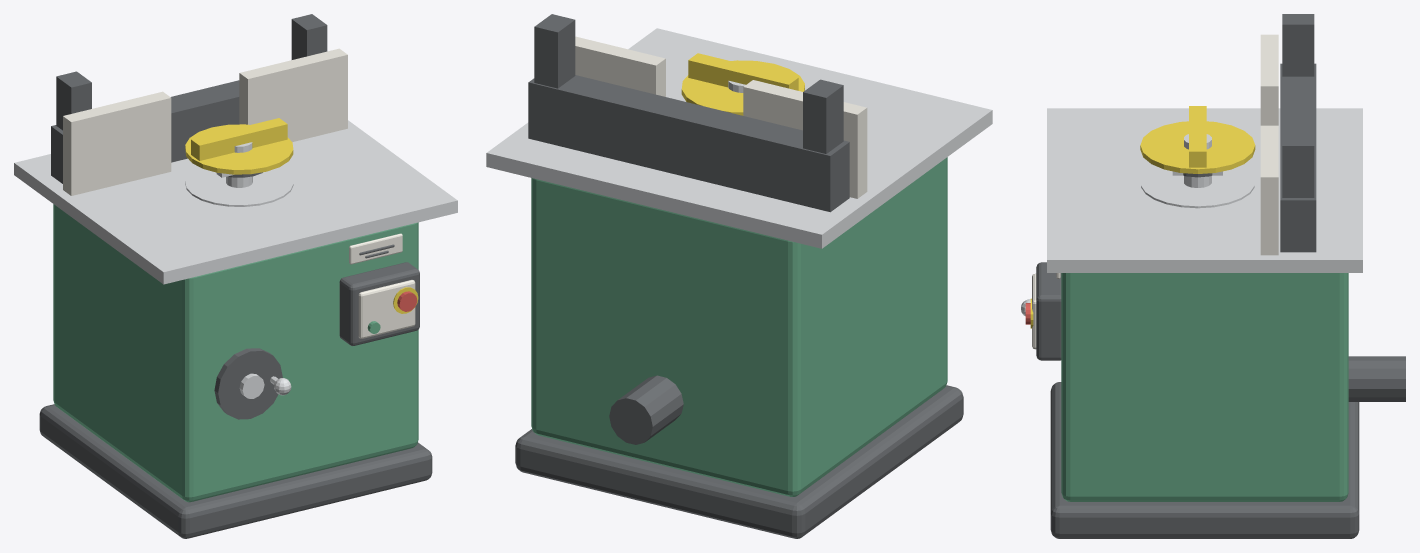
Rendered from woodworking-workshop-and-joinery-woodworking-workshop--f0da24d6__34243.glb.
3 views of the same model, side by side, from view 1: azimuth 30°, elevation 25°; view 2: azimuth 150°, elevation 25°; view 3: azimuth 270°, elevation 25° (orthographic). The views are drawn at different scales.
Parts seen in each view (by area): view 1: woodworking-workshop-and-joinery-spindle-moulder; view 2: woodworking-workshop-and-joinery-spindle-moulder; view 3: woodworking-workshop-and-joinery-spindle-moulder, moulder-spin/steel.
Boxes of the visible parts, left/top/right/bottom form: woodworking-workshop-and-joinery-spindle-moulder: left=14, top=14, right=457, bottom=538; woodworking-workshop-and-joinery-spindle-moulder: left=486, top=14, right=992, bottom=538; woodworking-workshop-and-joinery-spindle-moulder: left=1021, top=14, right=1405, bottom=538; moulder-spin/steel: left=1172, top=134, right=1222, bottom=187.
Bounding box in the file's own units: 1 × 1.22 × 1.07.
